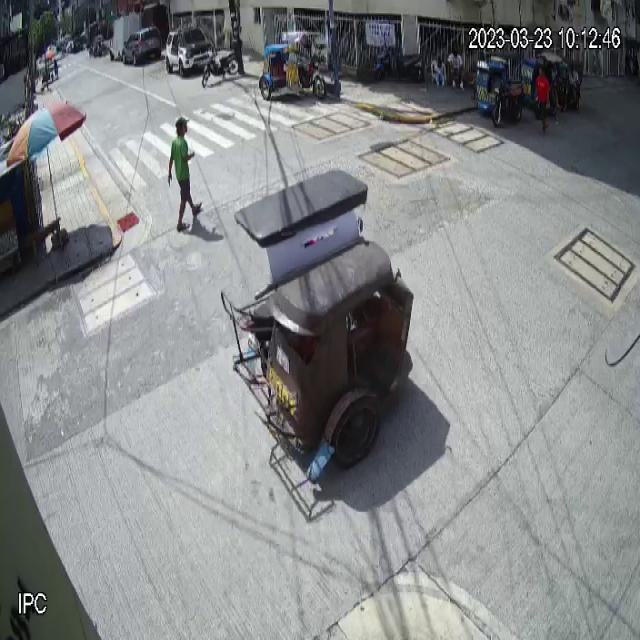Motorcycle: (202, 46, 240, 88)
Tricycle: (220, 169, 417, 480), (258, 30, 328, 101), (476, 53, 523, 127)
